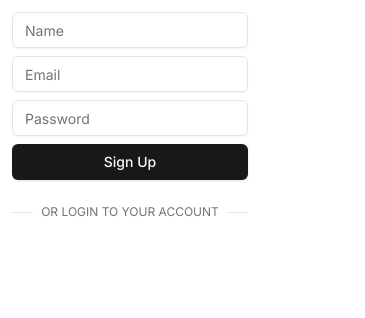
it: SignupForm › Displays validation errors on invalid input
Click the button "Sign Up": (130, 162) [12, 144, 248, 180]
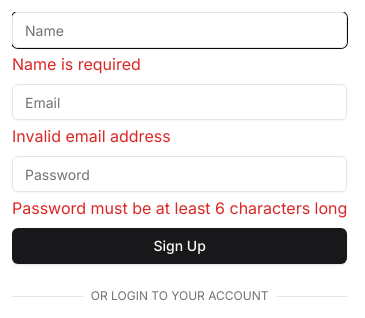
Expected: the text "Name is required" is shown, [12, 54, 141, 74]
Expected: the text "Invalid email address" is shown, [12, 126, 171, 146]
Expected: the text "Password must be at least 6 characters long" is shown, [12, 196, 347, 220]
